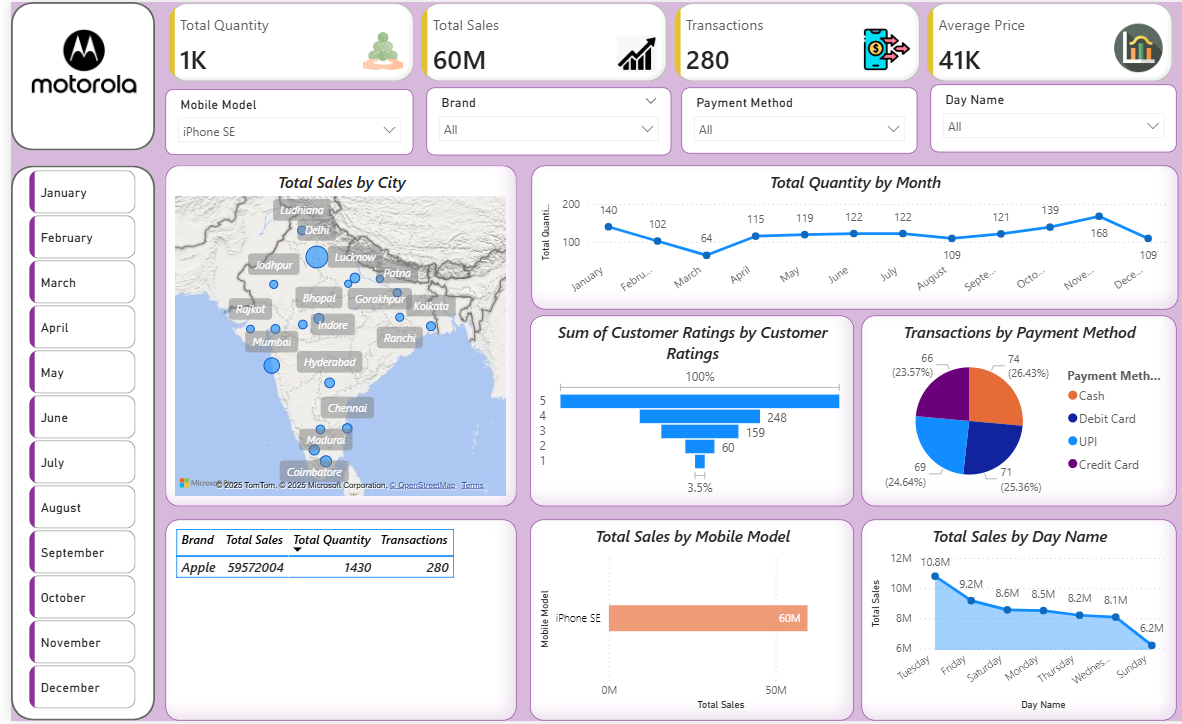

Layout of this report page (visuals, bound fields, positions):
{"tool":"powerbi","page":{"name":"Page 1","canvas":[1312,799],"ordinal":0},"visuals":[{"type":"shape","box":[0,0,160,165],"z":0},{"type":"image","box":[8.3,0,143.3,143.3],"z":1000},{"type":"shape","box":[0,181.7,160,616.7],"z":2000},{"type":"advancedSlicerVisual","fields":{"Values":["Mobile_salesdata.Date.Variation.Date Hierarchy.Month"]},"box":[15,181.7,128.3,616.7],"z":3000},{"type":"cardVisual","fields":{"Data":["Mobile_salesdata.Total Quantity","Mobile_salesdata.Total Sales","Mobile_salesdata.Transactions","Mobile_salesdata.Average Price"]},"box":[171.7,0,1123.3,90],"z":4000},{"type":"map","fields":{"Category":["Mobile_salesdata.City"],"Size":["Mobile_salesdata.Total Sales"]},"box":[171.7,181.7,390,378.3],"z":5000},{"type":"lineChart","fields":{"Category":["Mobile_salesdata.Date.Variation.Date Hierarchy.Month","Mobile_salesdata.Date.Variation.Date Hierarchy.Day"],"Y":["Mobile_salesdata.Total Quantity"]},"box":[578.3,181.7,718.3,160],"z":6000},{"type":"clusteredBarChart","fields":{"Category":["Mobile_salesdata.Mobile Model"],"Y":["Mobile_salesdata.Total Sales"]},"box":[576.7,575,360,223.3],"z":7000},{"type":"pieChart","fields":{"Y":["Mobile_salesdata.Transactions"],"Category":["Mobile_salesdata.Payment Method"]},"box":[945,348.3,350,211.7],"z":8000},{"type":"funnel","fields":{"Y":["Sum(Mobile_salesdata.Customer Ratings)"],"Category":["Mobile_salesdata.Customer Ratings"]},"box":[576.7,348.3,360,211.7],"z":9000},{"type":"areaChart","fields":{"Category":["Mobile_salesdata.Day Name"],"Y":["Mobile_salesdata.Total Sales"]},"box":[945,575,350,223.3],"z":10000},{"type":"tableEx","fields":{"Values":["Mobile_salesdata.Brand","Mobile_salesdata.Total Sales","Mobile_salesdata.Total Quantity","Mobile_salesdata.Transactions"]},"box":[171.7,575,390,223.3],"z":12000},{"type":"slicer","fields":{"Values":["Mobile_salesdata.Day Name"]},"box":[1021.7,91.7,273.3,75],"z":13000},{"type":"slicer","fields":{"Values":["Mobile_salesdata.Mobile Model"]},"box":[171.7,96.7,275,73.3],"z":14000},{"type":"slicer","fields":{"Values":["Mobile_salesdata.Payment Method"]},"box":[745,95,261.7,73.3],"z":15000},{"type":"slicer","fields":{"Values":["Mobile_salesdata.Brand"]},"box":[461.7,95,271.7,75],"z":16000}]}

Visuals, with their boxes in screenshot pixels (x1, y1, x2, y2), scaled from the page's 1312x799 canvas onto the 1182x724 screenshot:
shape: rect(0, 0, 144, 150)
image: rect(7, 0, 137, 130)
shape: rect(0, 165, 144, 723)
advancedSlicerVisual - Mobile_salesdata.Date.Variation.Date Hierarchy.Month: rect(14, 165, 129, 723)
cardVisual - Mobile_salesdata.Total Quantity x Mobile_salesdata.Total Sales: rect(155, 0, 1167, 82)
map - Mobile_salesdata.City x Mobile_salesdata.Total Sales: rect(155, 165, 506, 507)
lineChart - Mobile_salesdata.Date.Variation.Date Hierarchy.Month x Mobile_salesdata.Date.Variation.Date Hierarchy.Day: rect(521, 165, 1168, 310)
clusteredBarChart - Mobile_salesdata.Mobile Model x Mobile_salesdata.Total Sales: rect(520, 521, 844, 723)
pieChart - Mobile_salesdata.Transactions x Mobile_salesdata.Payment Method: rect(851, 316, 1167, 507)
funnel - Sum(Mobile_salesdata.Customer Ratings) x Mobile_salesdata.Customer Ratings: rect(520, 316, 844, 507)
areaChart - Mobile_salesdata.Day Name x Mobile_salesdata.Total Sales: rect(851, 521, 1167, 723)
tableEx - Mobile_salesdata.Brand x Mobile_salesdata.Total Sales: rect(155, 521, 506, 723)
slicer - Mobile_salesdata.Day Name: rect(920, 83, 1167, 151)
slicer - Mobile_salesdata.Mobile Model: rect(155, 88, 402, 154)
slicer - Mobile_salesdata.Payment Method: rect(671, 86, 907, 153)
slicer - Mobile_salesdata.Brand: rect(416, 86, 661, 154)
